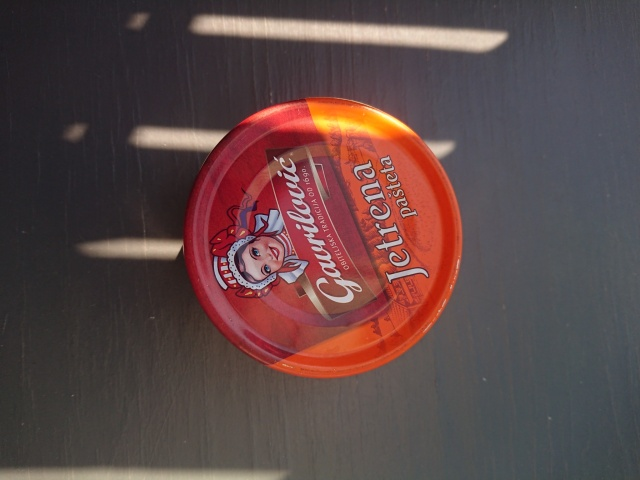Gavrilovic Pork Liver Pate 100g: (179, 92, 467, 383)
